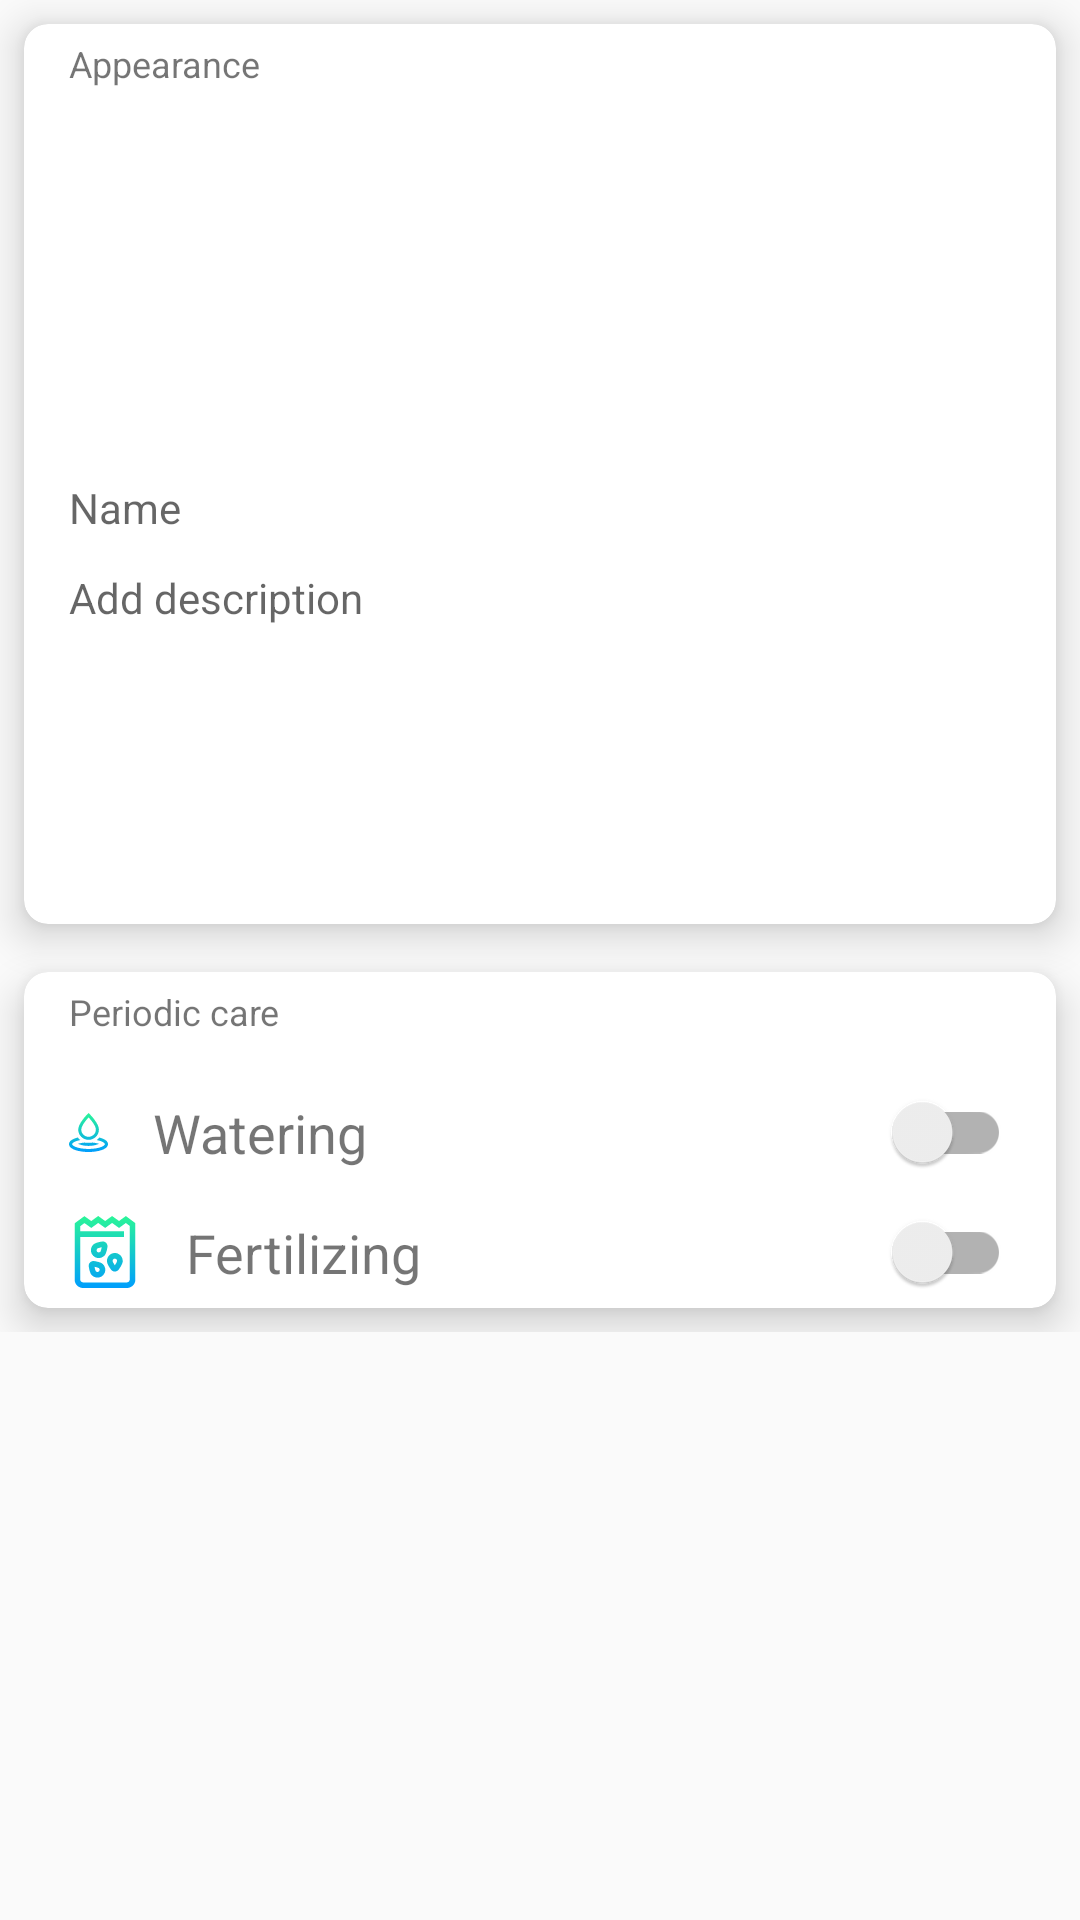

Icon bounding boxes for this 1080×1920 phone screenshot, format box(x1, y1, x2, y2):
seed bag: box(74, 1216, 136, 1288)
